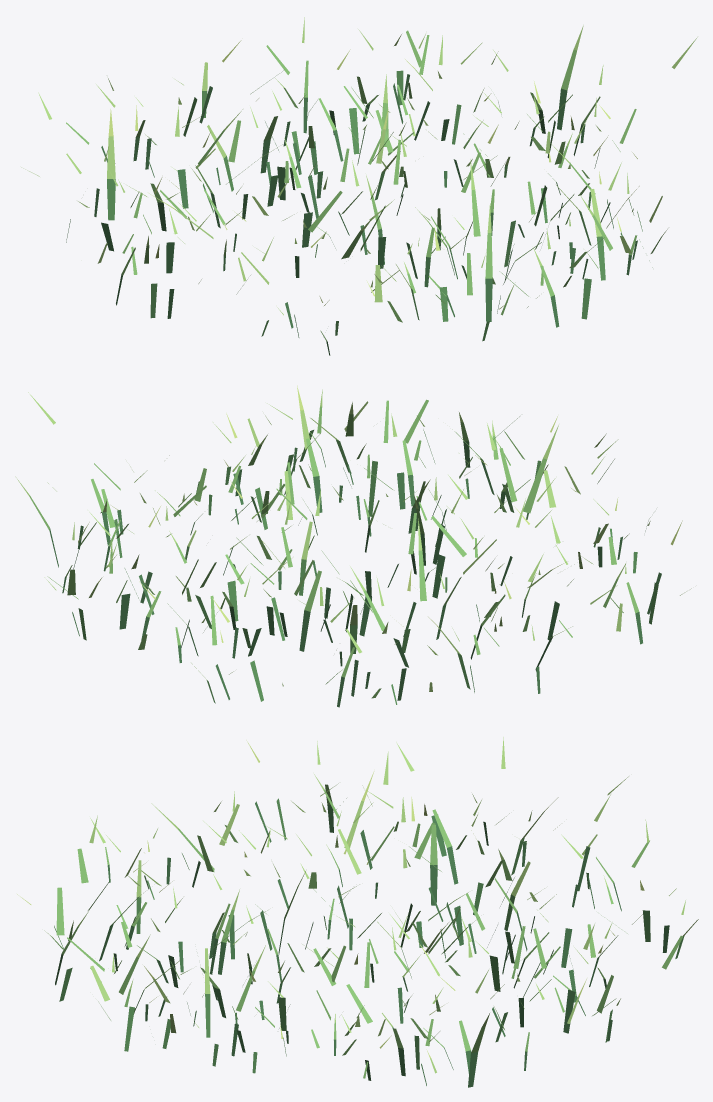
File: Grass_01_Short_LOD1.glb
3 renders of one model, top to bottom at view 1: azimuth 30°, elevation 25°; view 2: azimuth 150°, elevation 25°; view 3: azimuth 270°, elevation 25°, orthographic. The views are drawn at different scales.
Parts seen in each view (by area): view 1: Grass_01_Short; view 2: Grass_01_Short; view 3: Grass_01_Short.
Boxes of the visible parts, x1,y1,x2,y2 form: Grass_01_Short: (21,17,697,355); Grass_01_Short: (15,385,691,707); Grass_01_Short: (17,737,698,1087).
Size of the model in its own units: 2.65 by 0.4498 by 2.37.
